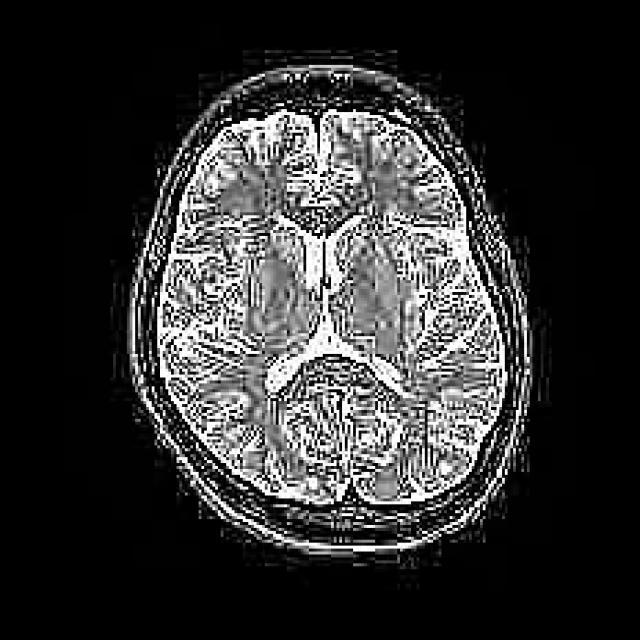notumor: (132, 65, 524, 554)
